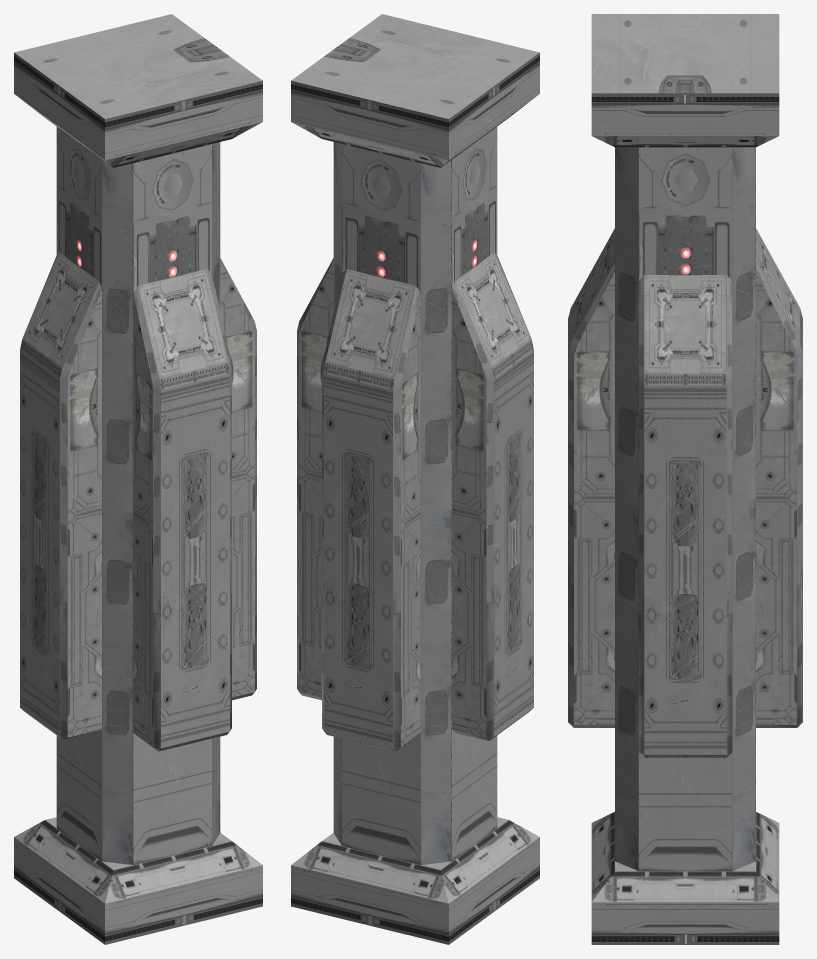
The model's file is SM_PillarsB_f.fbx.
3 views of the same model, side by side, from view 1: azimuth 30°, elevation 25°; view 2: azimuth 150°, elevation 25°; view 3: azimuth 270°, elevation 25° (orthographic). The views are drawn at different scales.
Visible parts, largest first — view 1: SM_PillarsB_f_LOD0; view 2: SM_PillarsB_f_LOD0; view 3: SM_PillarsB_f_LOD0.
Boxes of the visible parts, x1,y1,x2,y2 form: SM_PillarsB_f_LOD0: [14, 14, 262, 944]; SM_PillarsB_f_LOD0: [291, 14, 539, 944]; SM_PillarsB_f_LOD0: [568, 14, 802, 944].
Bounding box in the file's own units: 100 × 100 × 400.
